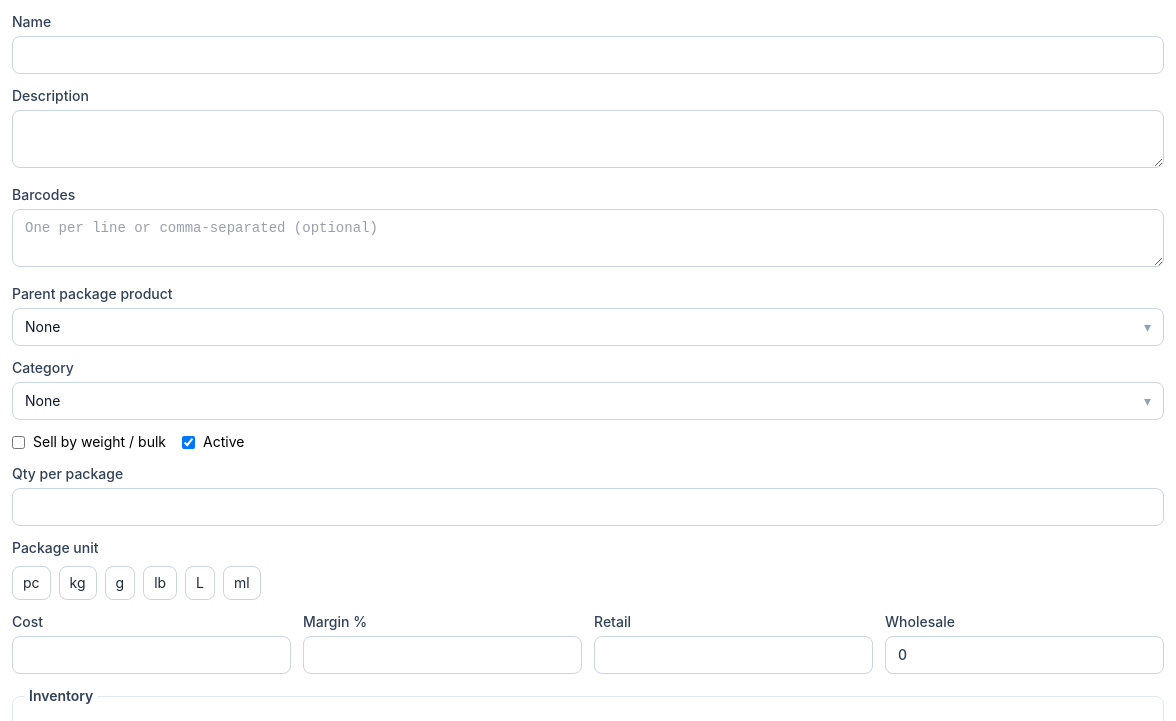
Test: ProductEditorForm Feature 076 › derives cost from parent and disables inventory
Click the button with test id "product-parent" at coordinates (43, 326), box [12,308,1164,346]
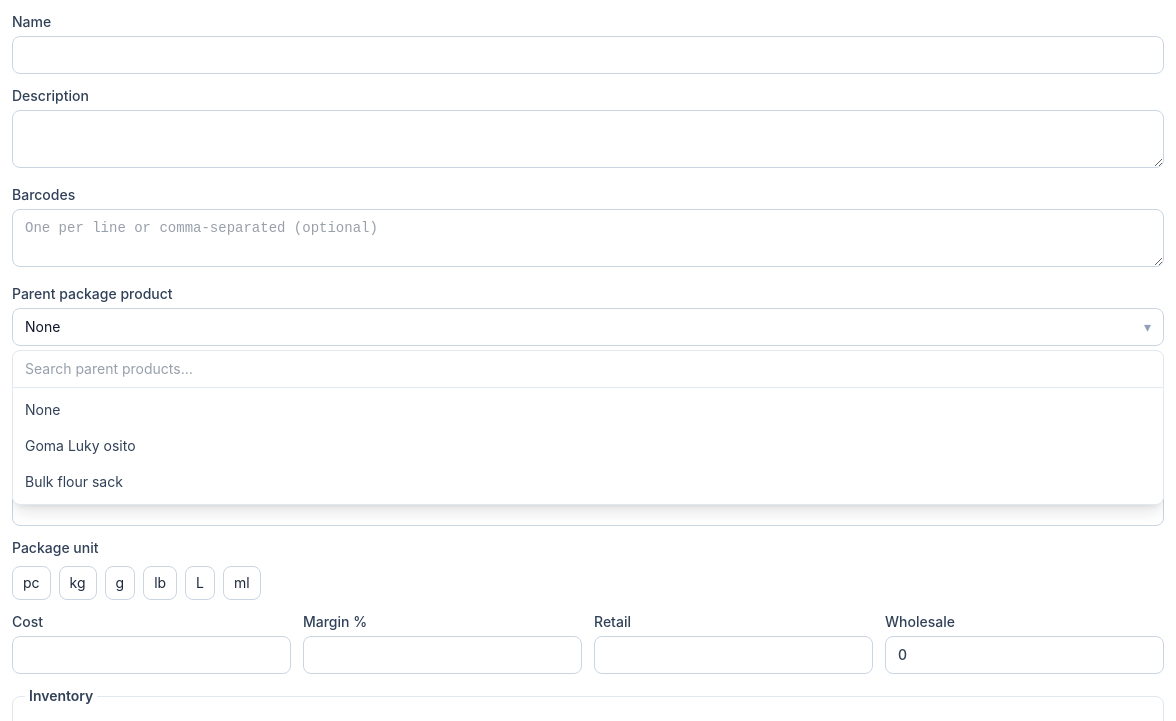
Click the button "Goma Luky osito" at coordinates (80, 446), box [13,428,1163,464]
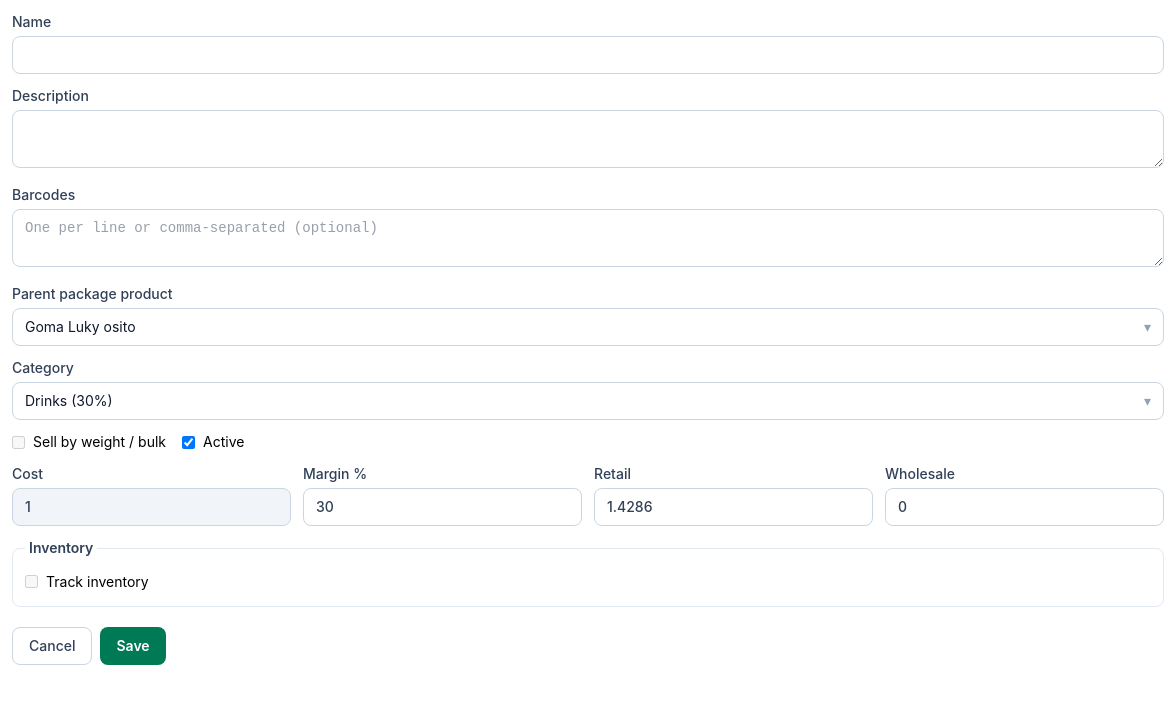
Expected: the checkbox with test id "product-track-inventory" is not checked, [25,575,38,588]
Result: the field with test id "product-cost" holds "1" at [12,488,291,526]
Result: the checkbox with test id "product-track-inventory" is disabled at [25,575,38,588]
